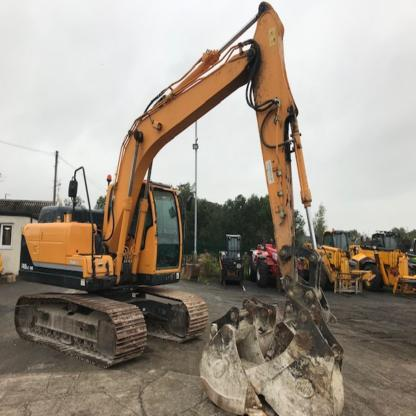excavator: (1, 4, 347, 416)
